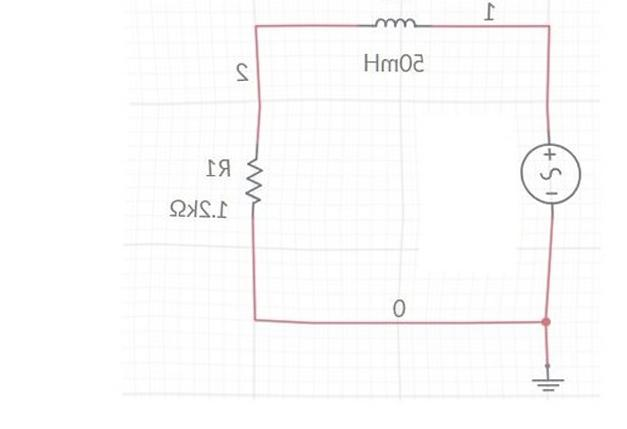Battery: (510, 131, 591, 217)
